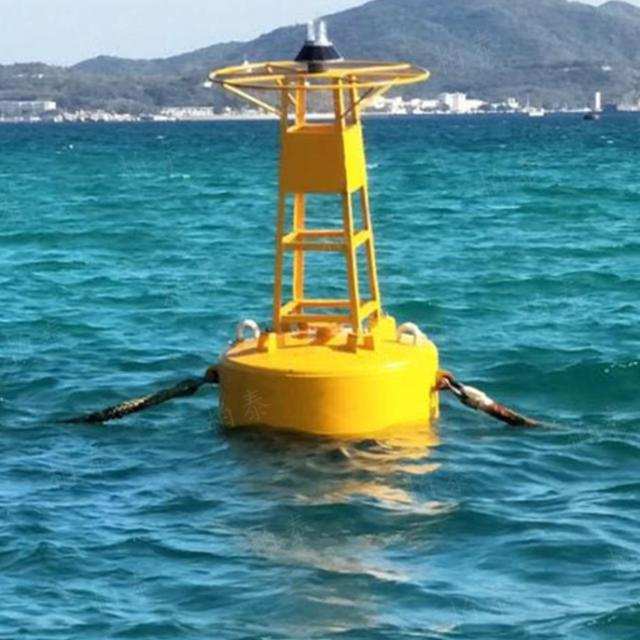buoy: (195, 17, 455, 440)
